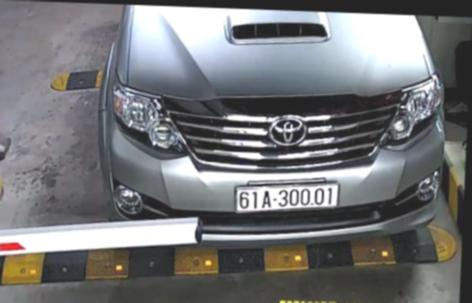License_Plate: (237, 178, 343, 219)
